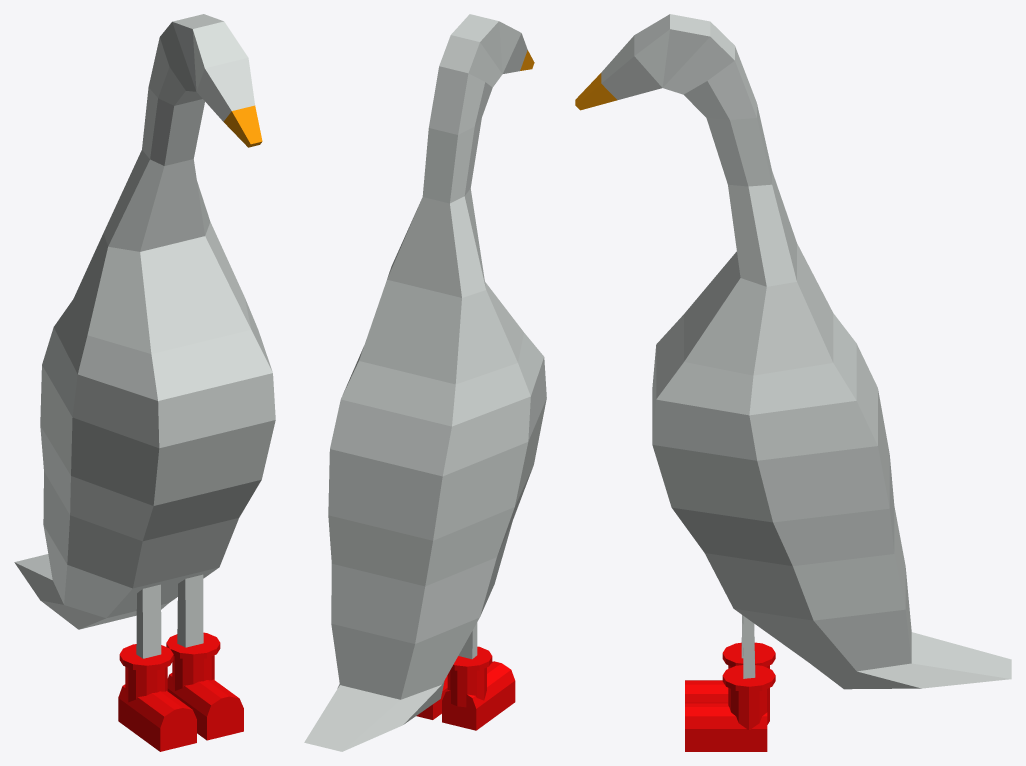
File: duck.fbx
3 views of the same model, side by side, from view 1: azimuth 30°, elevation 25°; view 2: azimuth 150°, elevation 25°; view 3: azimuth 270°, elevation 25° (orthographic). The views are drawn at different scales.
Parts seen in each view (by area): view 1: Cube, Cylinder, Cylinder.001; view 2: Cube, Cylinder; view 3: Cube, Cylinder.001, Cylinder.
Boxes of the visible parts, x1,y1,x2,y2 form: Cube: [14, 14, 275, 658]; Cylinder: [118, 644, 196, 751]; Cylinder.001: [166, 632, 243, 740]; Cube: [304, 14, 546, 751]; Cylinder: [442, 646, 515, 730]; Cube: [575, 14, 1011, 689]; Cylinder.001: [685, 665, 775, 751]; Cylinder: [685, 642, 775, 702].
Bounding box in the file's own units: 103 × 390 × 217.
